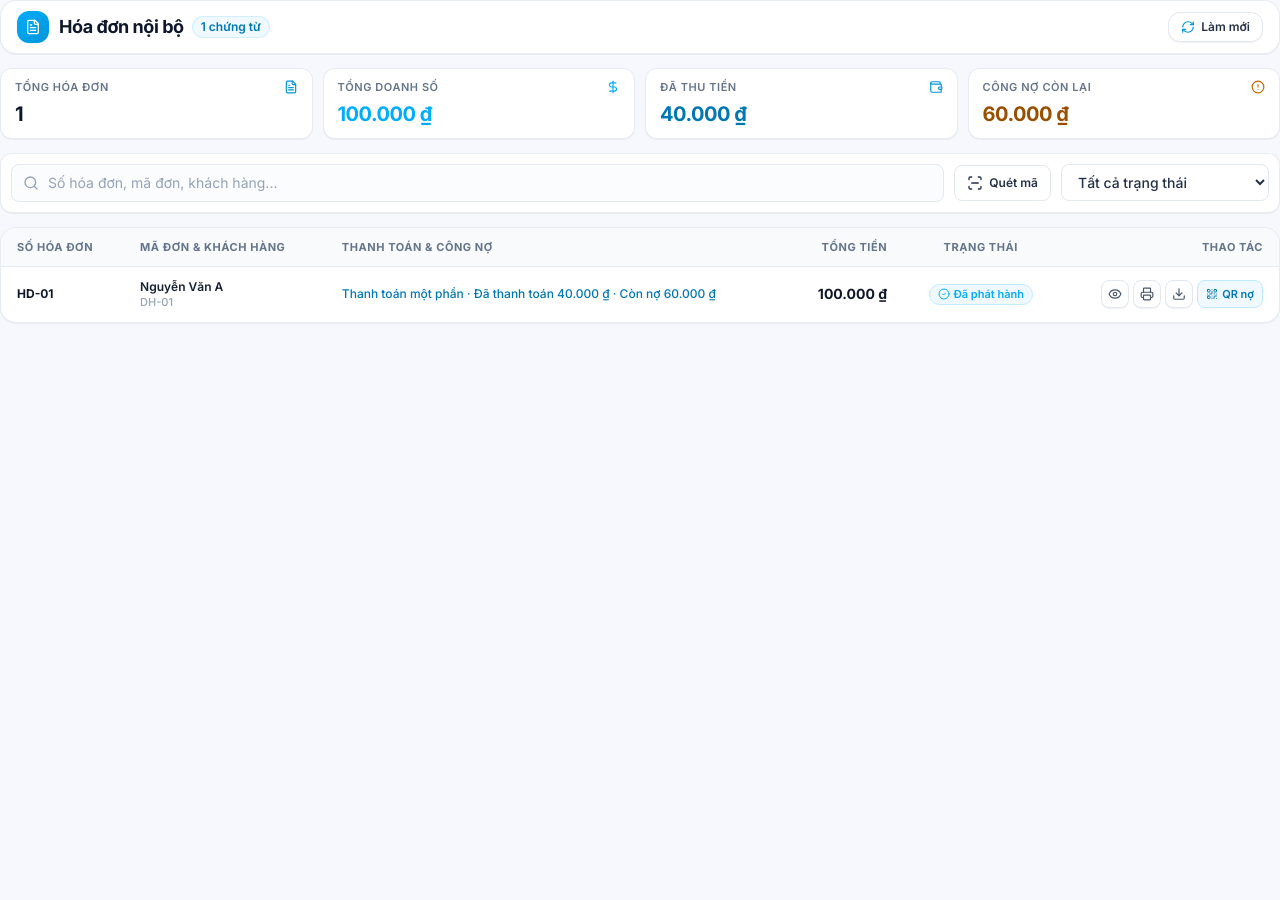
RetailInvoicesPage › shows cashier and localized partial payment details
expect the text "Thanh toán một phần · Đã thanh toán 40.000 ₫ · Còn nợ 60.000 ₫" is shown: met, box [342, 286, 772, 302]
What coordinates should you click on to do the following:
click the button named "Xem hóa đơn HD-01"
I would click on:
 (1115, 294)
Its box is [1101, 280, 1129, 308].
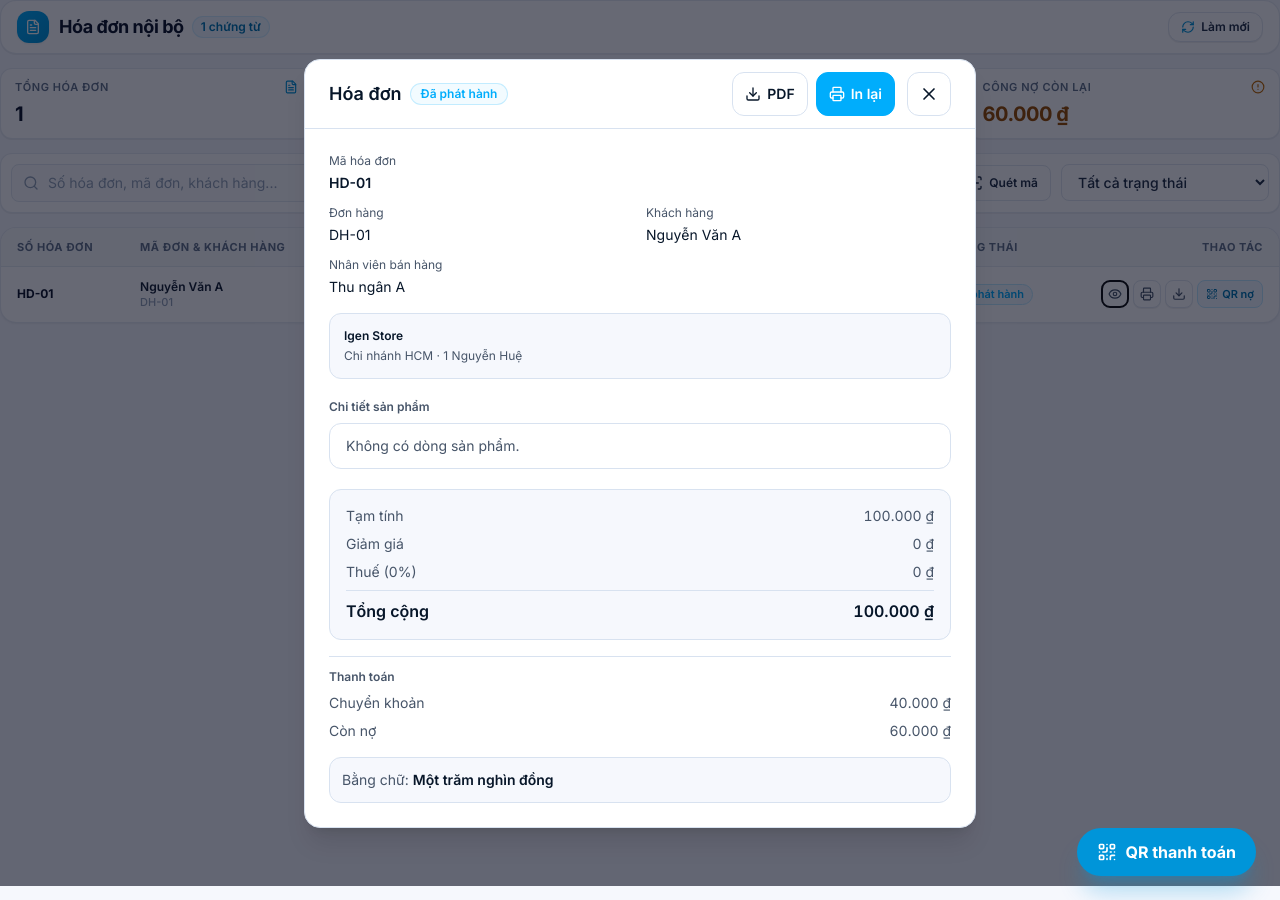
expect the text "Thu ngân A" is shown: met, box [329, 278, 405, 294]
expect the text "Chuyển khoản" is shown: met, box [329, 694, 424, 710]
expect the text "Còn nợ" is shown: met, box [329, 722, 376, 738]
